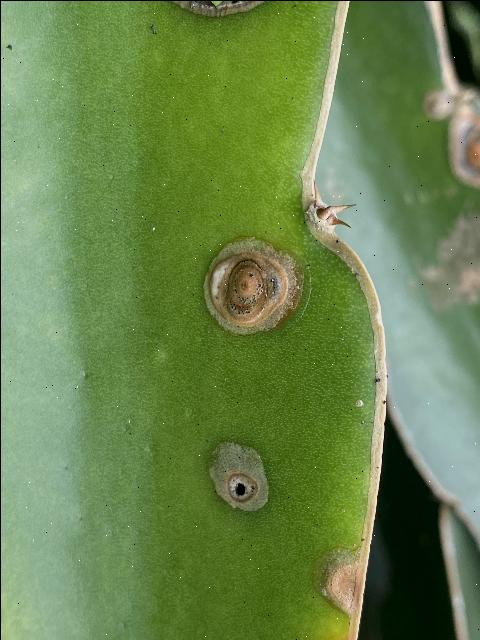stemcanker: (201, 234, 302, 338), (200, 436, 274, 514), (313, 539, 363, 618)
